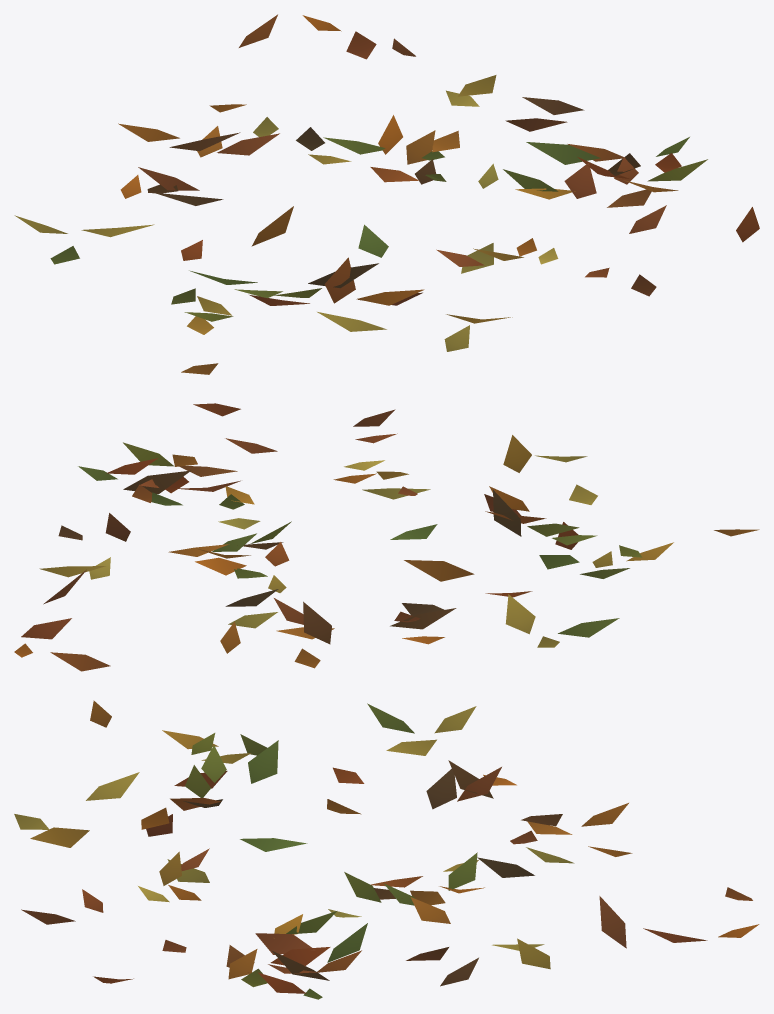
The model's file is litter-autumn-a.lod1.glb.
3 views of the same model, one above another, from view 1: azimuth 30°, elevation 25°; view 2: azimuth 150°, elevation 25°; view 3: azimuth 270°, elevation 25° (orthographic). The views are drawn at different scales.
Size of the model in its own units: 1.64 by 0.1153 by 1.73.
